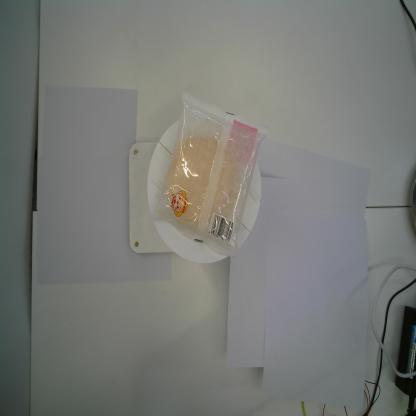Dessert: (148, 88, 274, 262)
